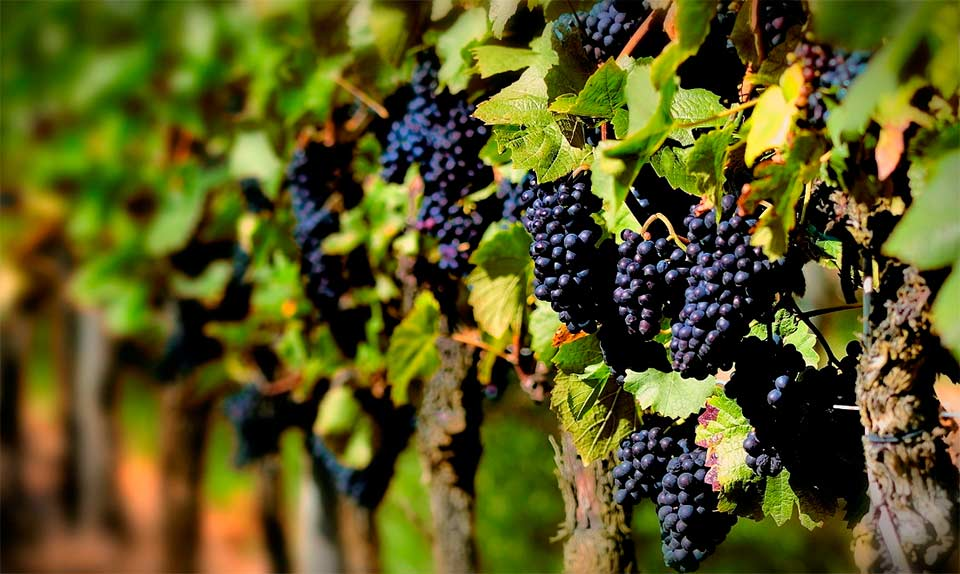Black grapes: (679, 167, 775, 389), (513, 164, 607, 327), (602, 201, 691, 358)
